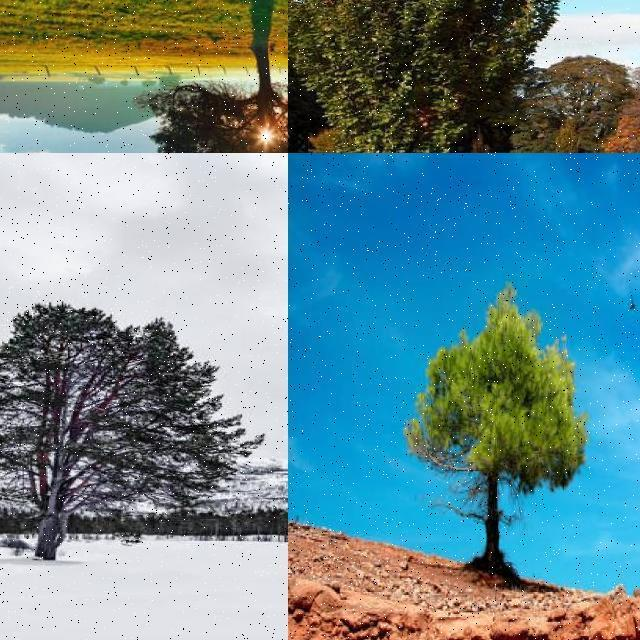tree: (0, 298, 256, 546), (406, 276, 590, 586), (288, 0, 566, 152), (136, 18, 288, 154), (288, 0, 410, 152), (532, 30, 640, 154), (606, 24, 640, 152)
